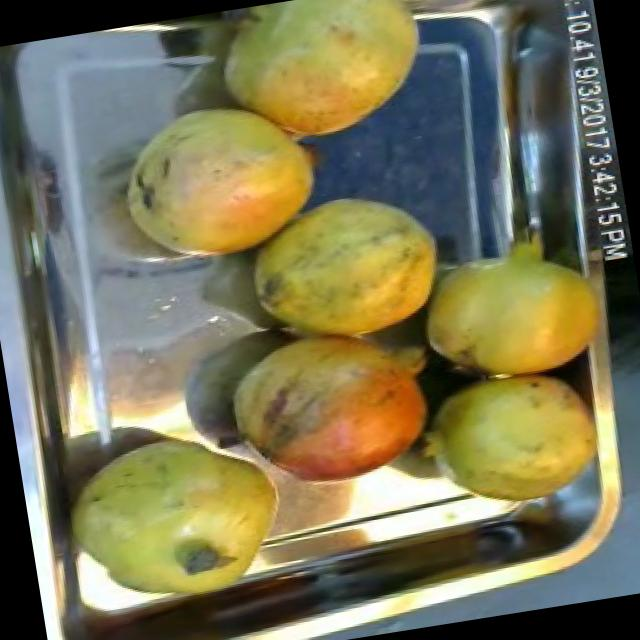fruit: (47, 409, 310, 630), (197, 300, 459, 518), (91, 74, 342, 287), (222, 171, 466, 366), (397, 205, 624, 401), (199, 0, 456, 167), (400, 354, 615, 530)
